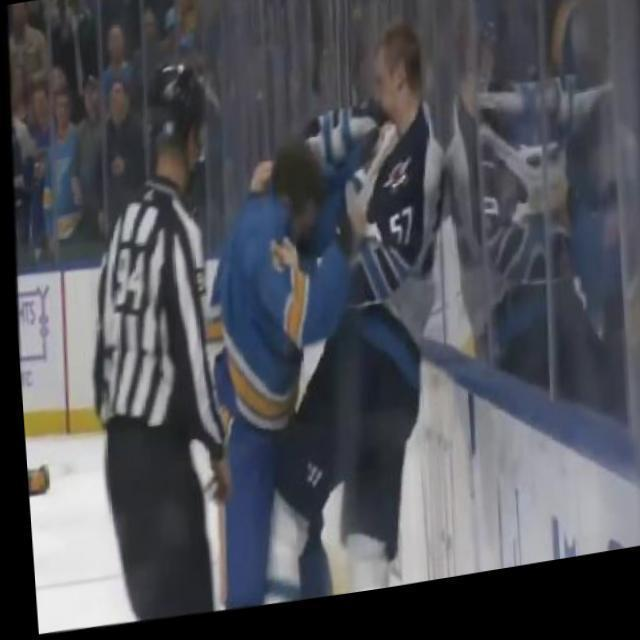fight: (186, 12, 465, 618)
